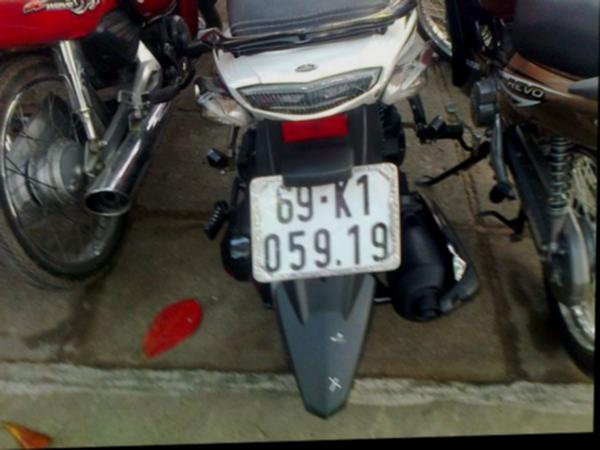License_Plate: (258, 176, 398, 275)
